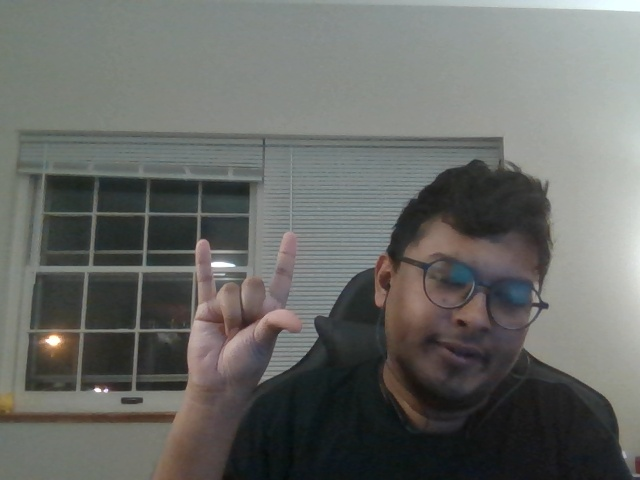ilikeyou: (167, 219, 316, 398)
